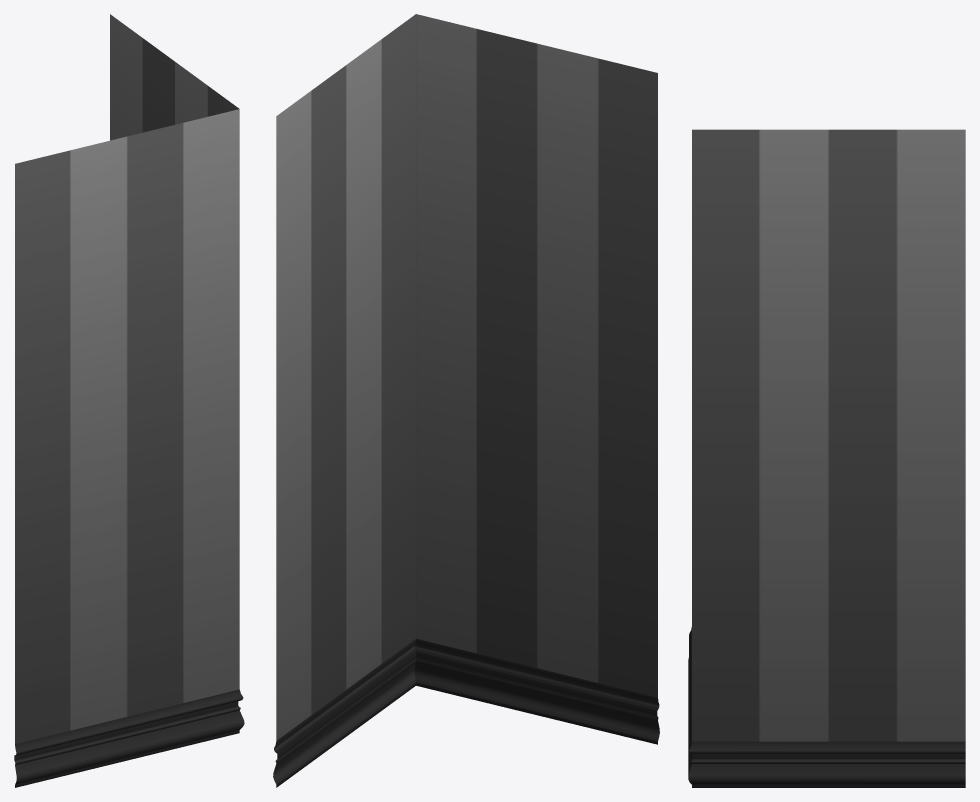
Rendered from Wall_03_Ext.fbx.
3 renders of one model, left to right at view 1: azimuth 30°, elevation 25°; view 2: azimuth 150°, elevation 25°; view 3: azimuth 270°, elevation 25°, orthographic. The views are drawn at different scales.
Parts seen in each view (by area): view 1: Wall_03_Ext; view 2: Wall_03_Ext; view 3: Wall_03_Ext.
Part boxes in pixels (box(x1,y1,x2,y2)): Wall_03_Ext: box(14, 14, 244, 787); Wall_03_Ext: box(273, 14, 659, 787); Wall_03_Ext: box(688, 129, 965, 787).
Bounding box in the file's own units: 1.01 × 2.65 × 1.01.
